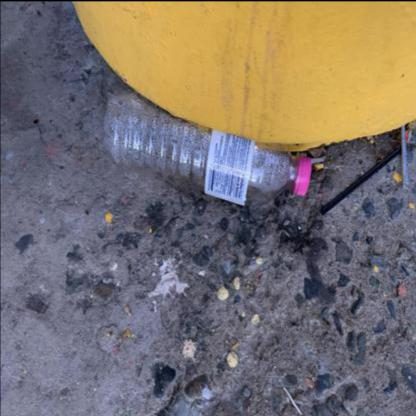Bottle: (296, 154, 312, 196)
Bottle cap: (103, 92, 311, 205)
Straw: (319, 144, 401, 214), (402, 125, 408, 189)
